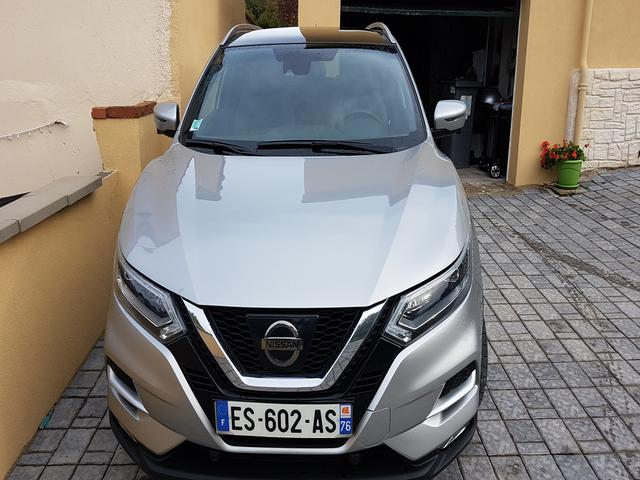Quashquai: (197, 390, 364, 443)
